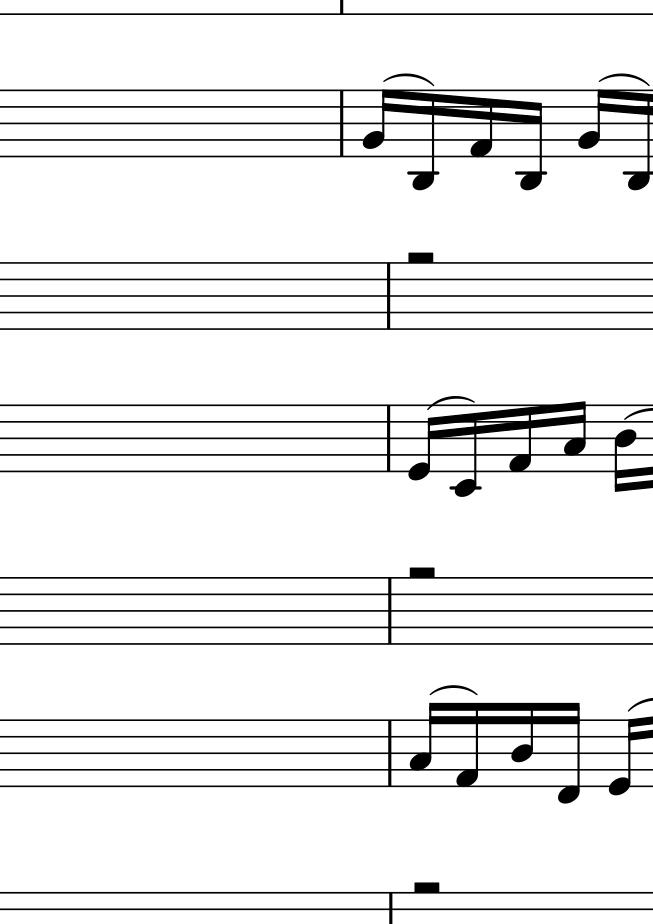16_-1: (556, 700, 584, 808)
16_-2: (450, 404, 479, 500)
16_-3: (409, 88, 439, 193), (516, 88, 545, 194), (624, 88, 651, 193)
16_0: (606, 716, 639, 798), (405, 404, 438, 483)
16_1: (454, 701, 481, 790), (468, 88, 496, 160), (507, 403, 535, 475)
16_2: (577, 88, 609, 160), (361, 88, 392, 160)
16_3: (407, 700, 440, 789), (561, 399, 588, 475)
16_4: (509, 700, 536, 788), (611, 402, 637, 493)
Rests1: (403, 247, 439, 270)
Rests2: (403, 560, 441, 586), (408, 875, 447, 899)
Single_barline: (382, 720, 398, 784), (335, 90, 350, 157), (382, 263, 397, 329), (382, 578, 397, 644), (382, 406, 397, 471)
Slur: (380, 72, 435, 86), (599, 73, 653, 87), (427, 394, 476, 408), (428, 683, 476, 694)
